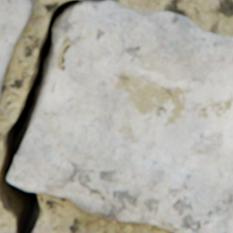brick: (8, 0, 232, 232), (0, 0, 34, 101)
crack: (0, 0, 81, 232), (90, 0, 106, 1)
